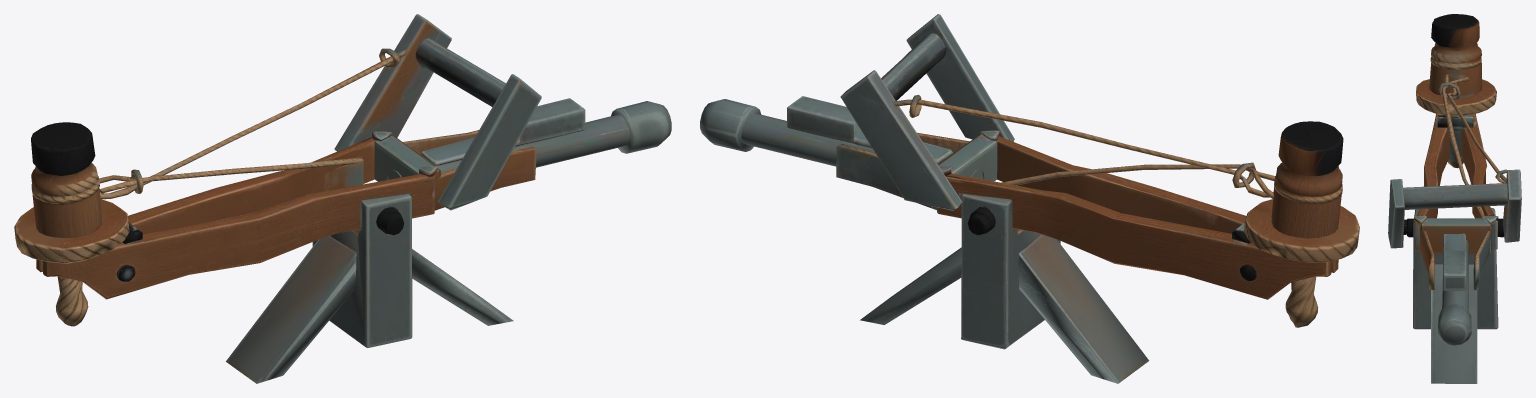
Rendered from ballista.glb.
3 renders of one model, left to right at view 1: azimuth 30°, elevation 25°; view 2: azimuth 150°, elevation 25°; view 3: azimuth 270°, elevation 25°, orthographic. The views are drawn at different scales.
Size of the model in its own units: 0.957 by 0.4033 by 0.2339.
1 material, 1 textured.
